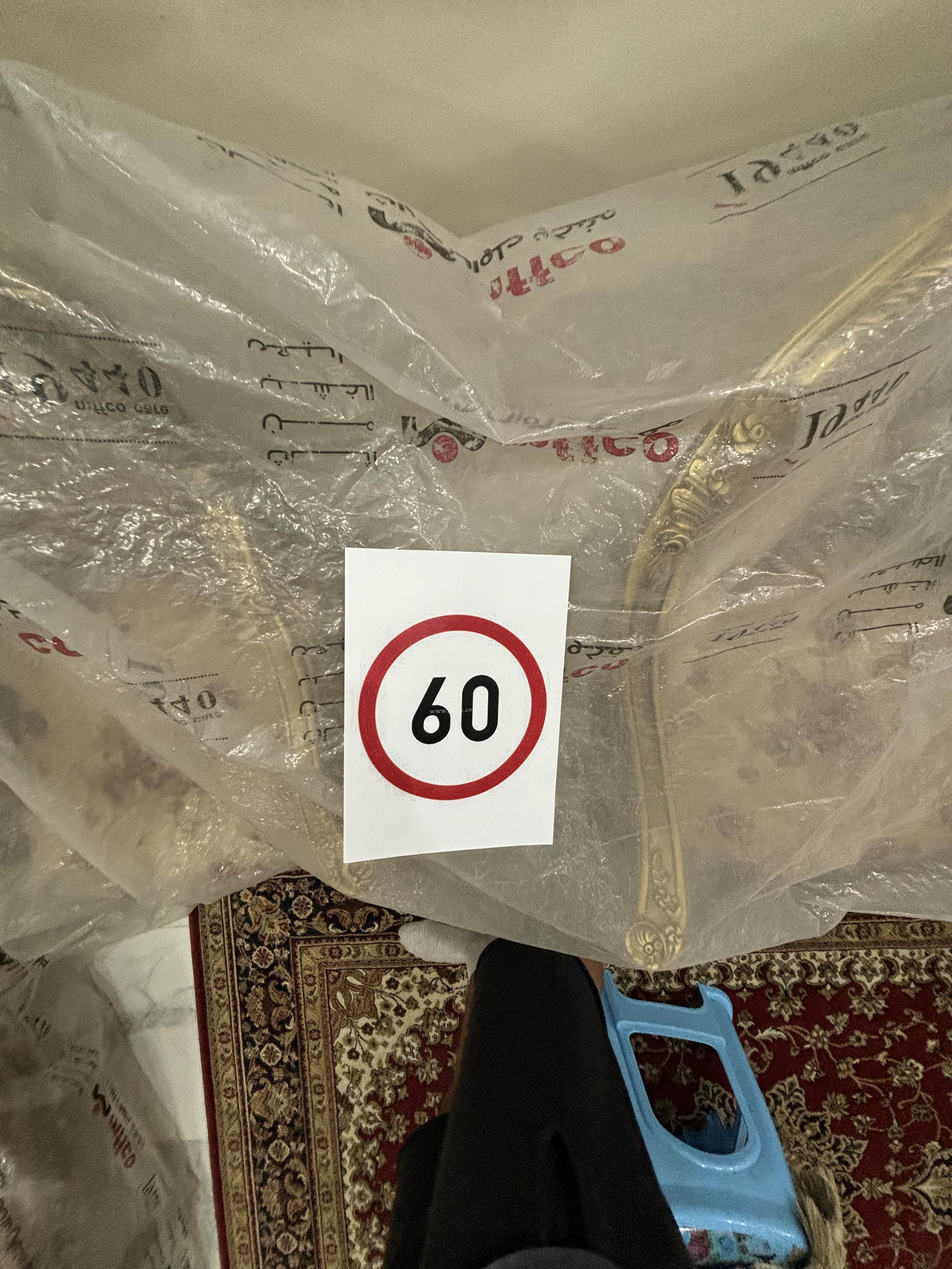60-Speed: (356, 611, 556, 800)
